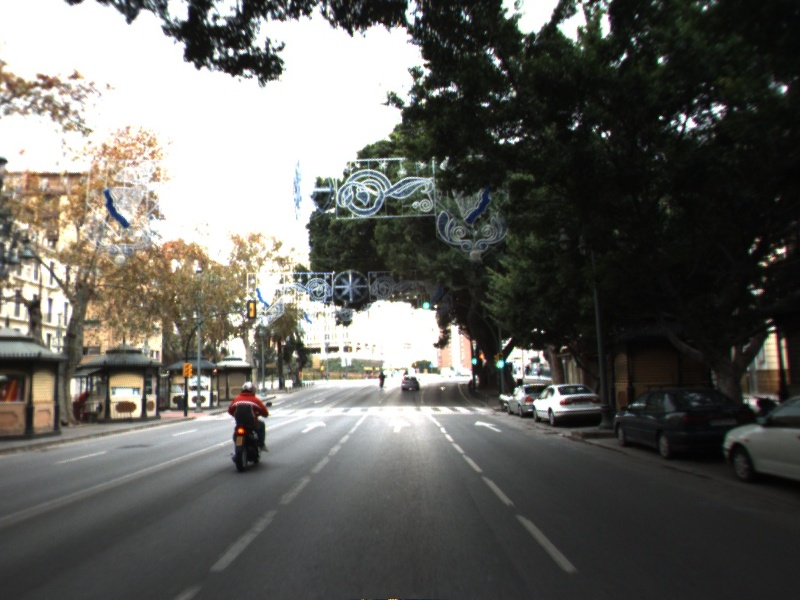STRAIGHT: (472, 418, 505, 434), (299, 418, 329, 435)
